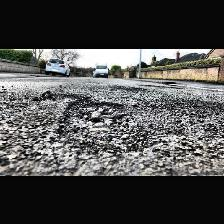pothole: (52, 96, 148, 150)
